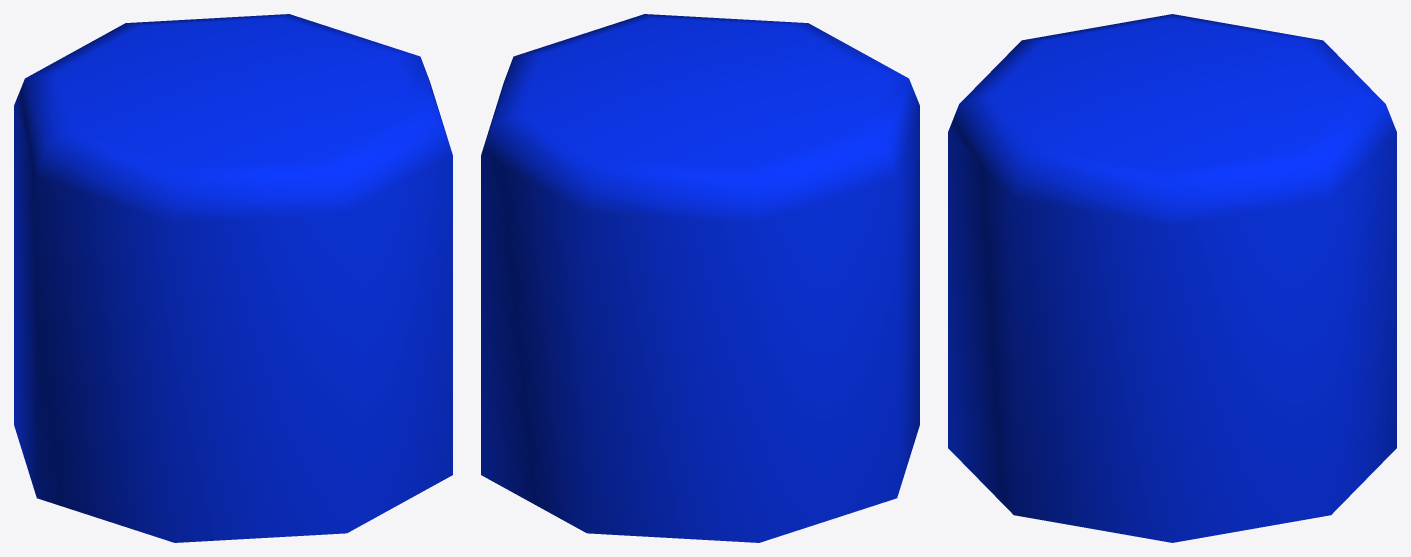
File: block_shapes_cylinder_01.FBX
3 views of the same model, side by side, from view 1: azimuth 30°, elevation 25°; view 2: azimuth 150°, elevation 25°; view 3: azimuth 270°, elevation 25° (orthographic).
Parts seen in each view (by area): view 1: block_shapes_cylinder_01; view 2: block_shapes_cylinder_01; view 3: block_shapes_cylinder_01.
Part boxes in pixels (left/top/right/bottom): block_shapes_cylinder_01: left=14, top=14, right=452, bottom=542; block_shapes_cylinder_01: left=481, top=14, right=919, bottom=542; block_shapes_cylinder_01: left=948, top=14, right=1396, bottom=542.
Size of the model in its own units: 379 by 329 by 379.
